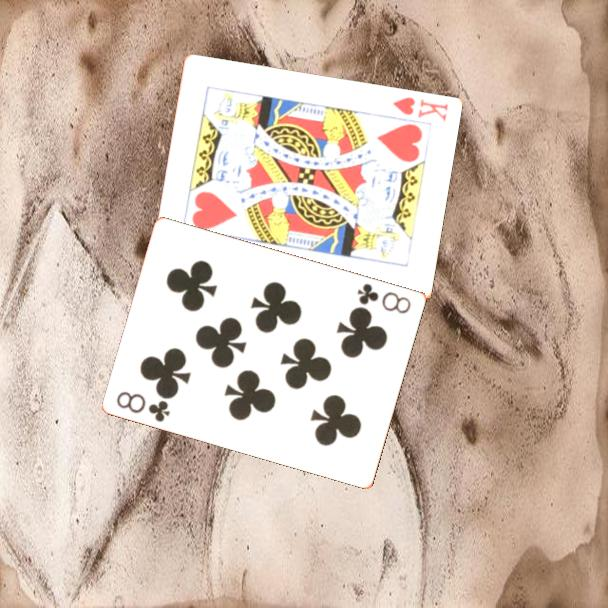c08: (113, 388, 173, 425), (354, 280, 414, 316)
h13: (389, 94, 451, 125)
